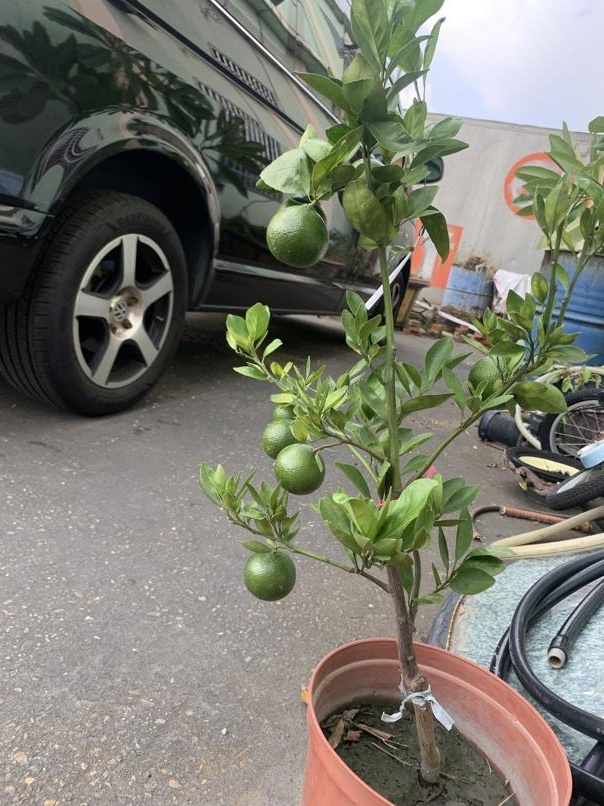Tangerine: (263, 203, 329, 267), (239, 542, 300, 602), (276, 441, 326, 496), (257, 418, 303, 460)
